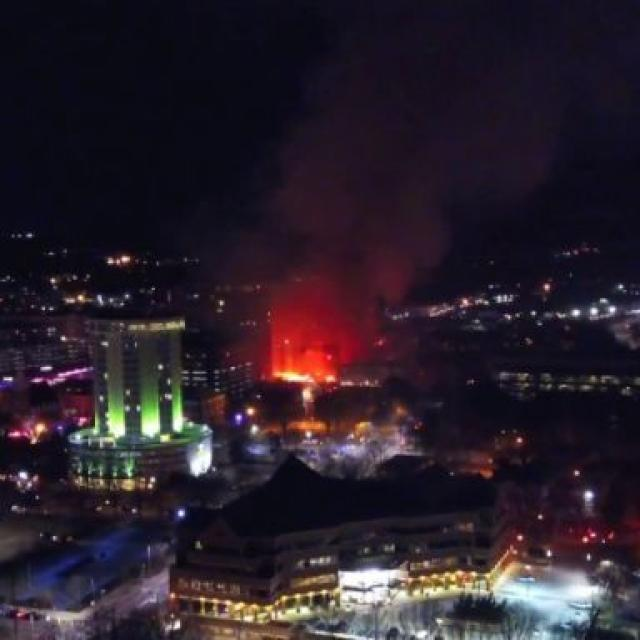Fire: (269, 370, 332, 387)
Smoke: (276, 105, 445, 347)
